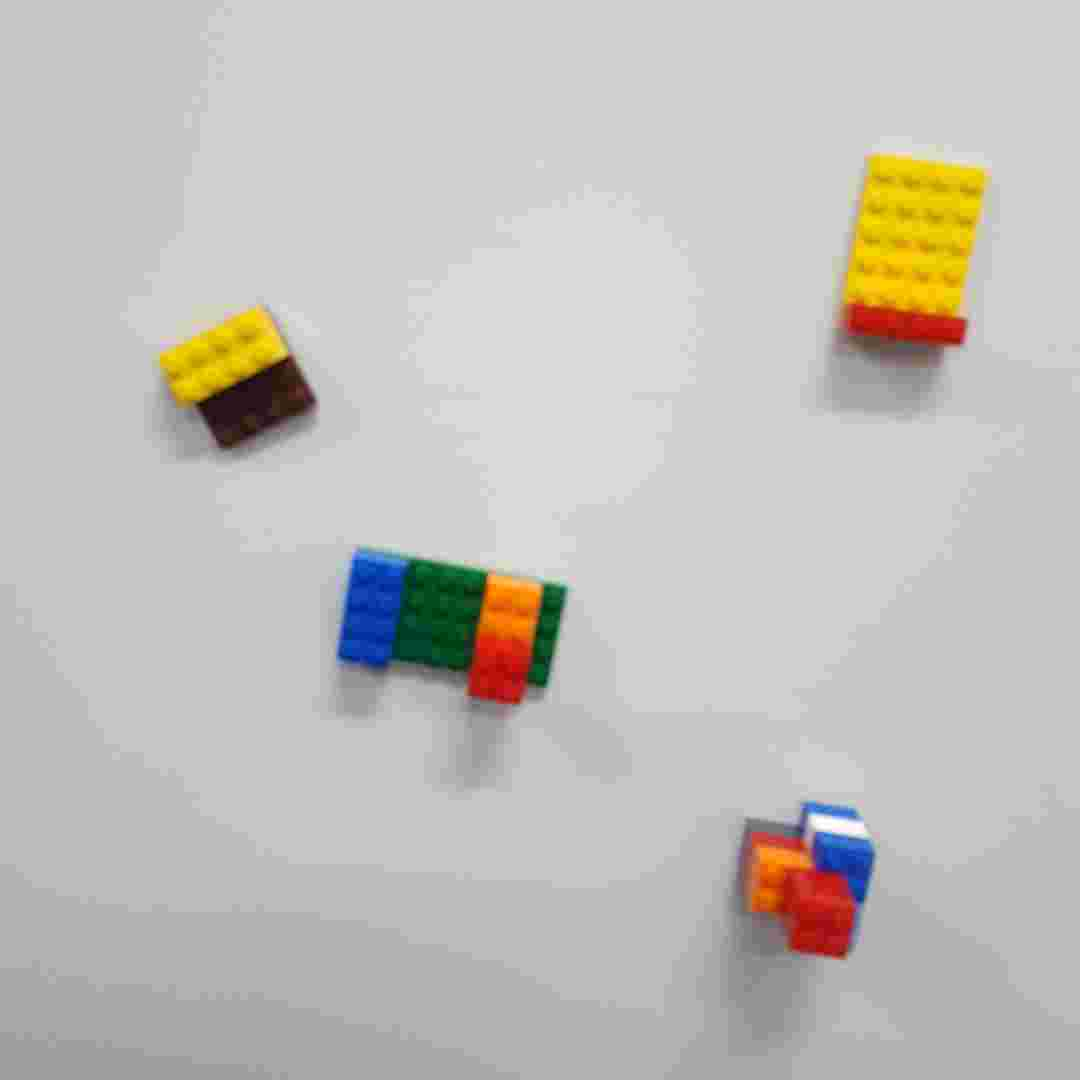LEGO: (338, 549, 569, 710), (833, 146, 994, 354), (735, 793, 877, 966), (154, 304, 322, 450)
